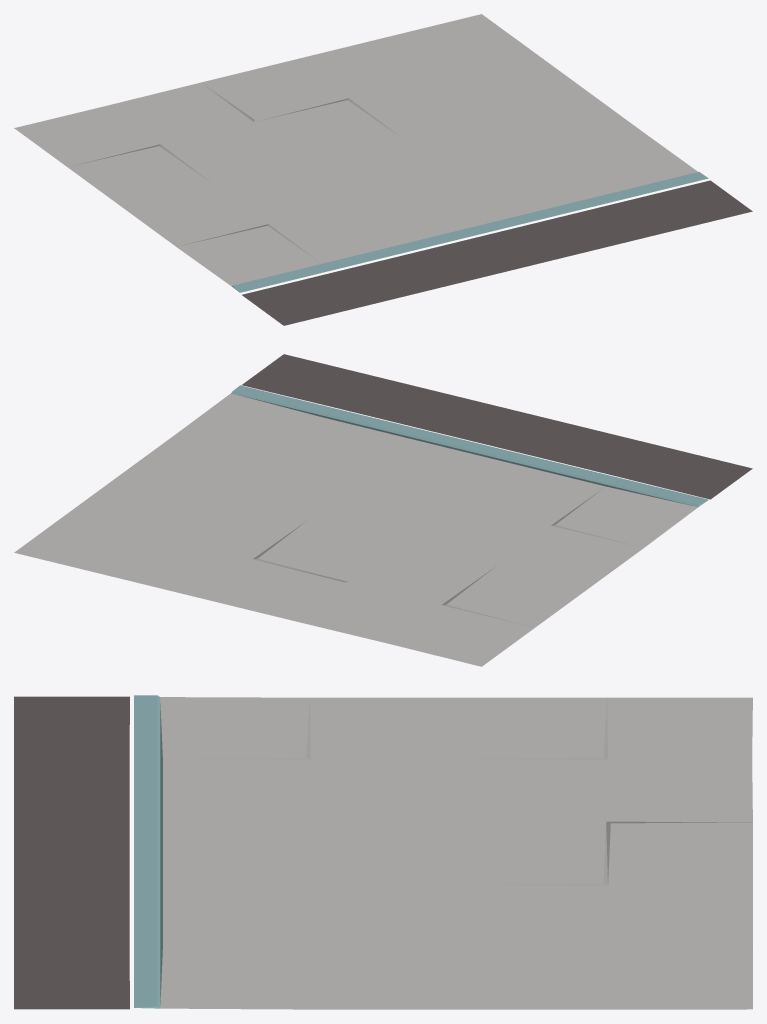
The model's file is QmZgbuHFX9diZ5244CaYq5sviEJ5ns6Zzc35CT2B24trqk_lod2.fbx.
The picture shows the model from 3 angles, top to bottom: view 1: azimuth 30°, elevation 25°; view 2: azimuth 150°, elevation 25°; view 3: azimuth 270°, elevation 25°; orthographic projection. The views are drawn at different scales.
Visible parts, largest first — view 1: Entity_512; view 2: Entity_512; view 3: Entity_512.
Part boxes in pixels (x1,y1,x2,y2): Entity_512: (14,14,752,325); Entity_512: (14,354,752,666); Entity_512: (14,695,752,1009).
Bounding box in the file's own units: 15923 × 70.6 × 15907.
1 material, 1 textured.
